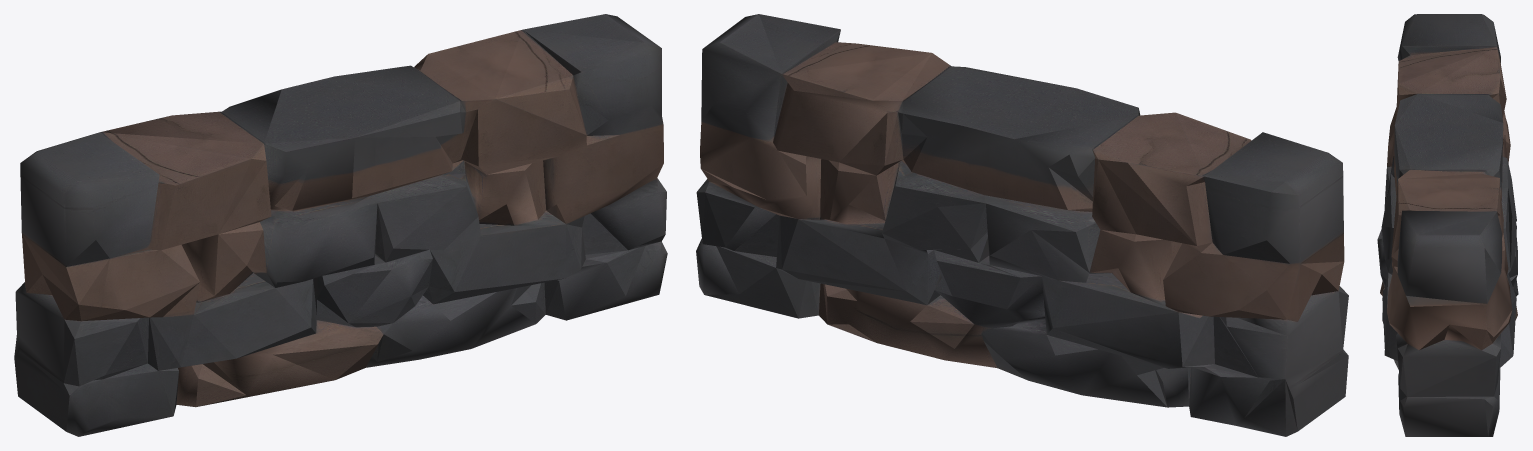
The model's file is ENV_Wall_Corner.fbx.
3 views of the same model, side by side, from view 1: azimuth 30°, elevation 25°; view 2: azimuth 150°, elevation 25°; view 3: azimuth 270°, elevation 25° (orthographic). The views are drawn at different scales.
Parts seen in each view (by area): view 1: Mesh_0; view 2: Mesh_0; view 3: Mesh_0.
Part boxes in pixels (x1,y1,x2,y2): Mesh_0: (14, 14, 667, 436); Mesh_0: (696, 14, 1348, 436); Mesh_0: (1377, 14, 1518, 436).
Bounding box in the file's own units: 190 × 75.9 × 48.45.
Materials: 1 (1 with a texture image).
